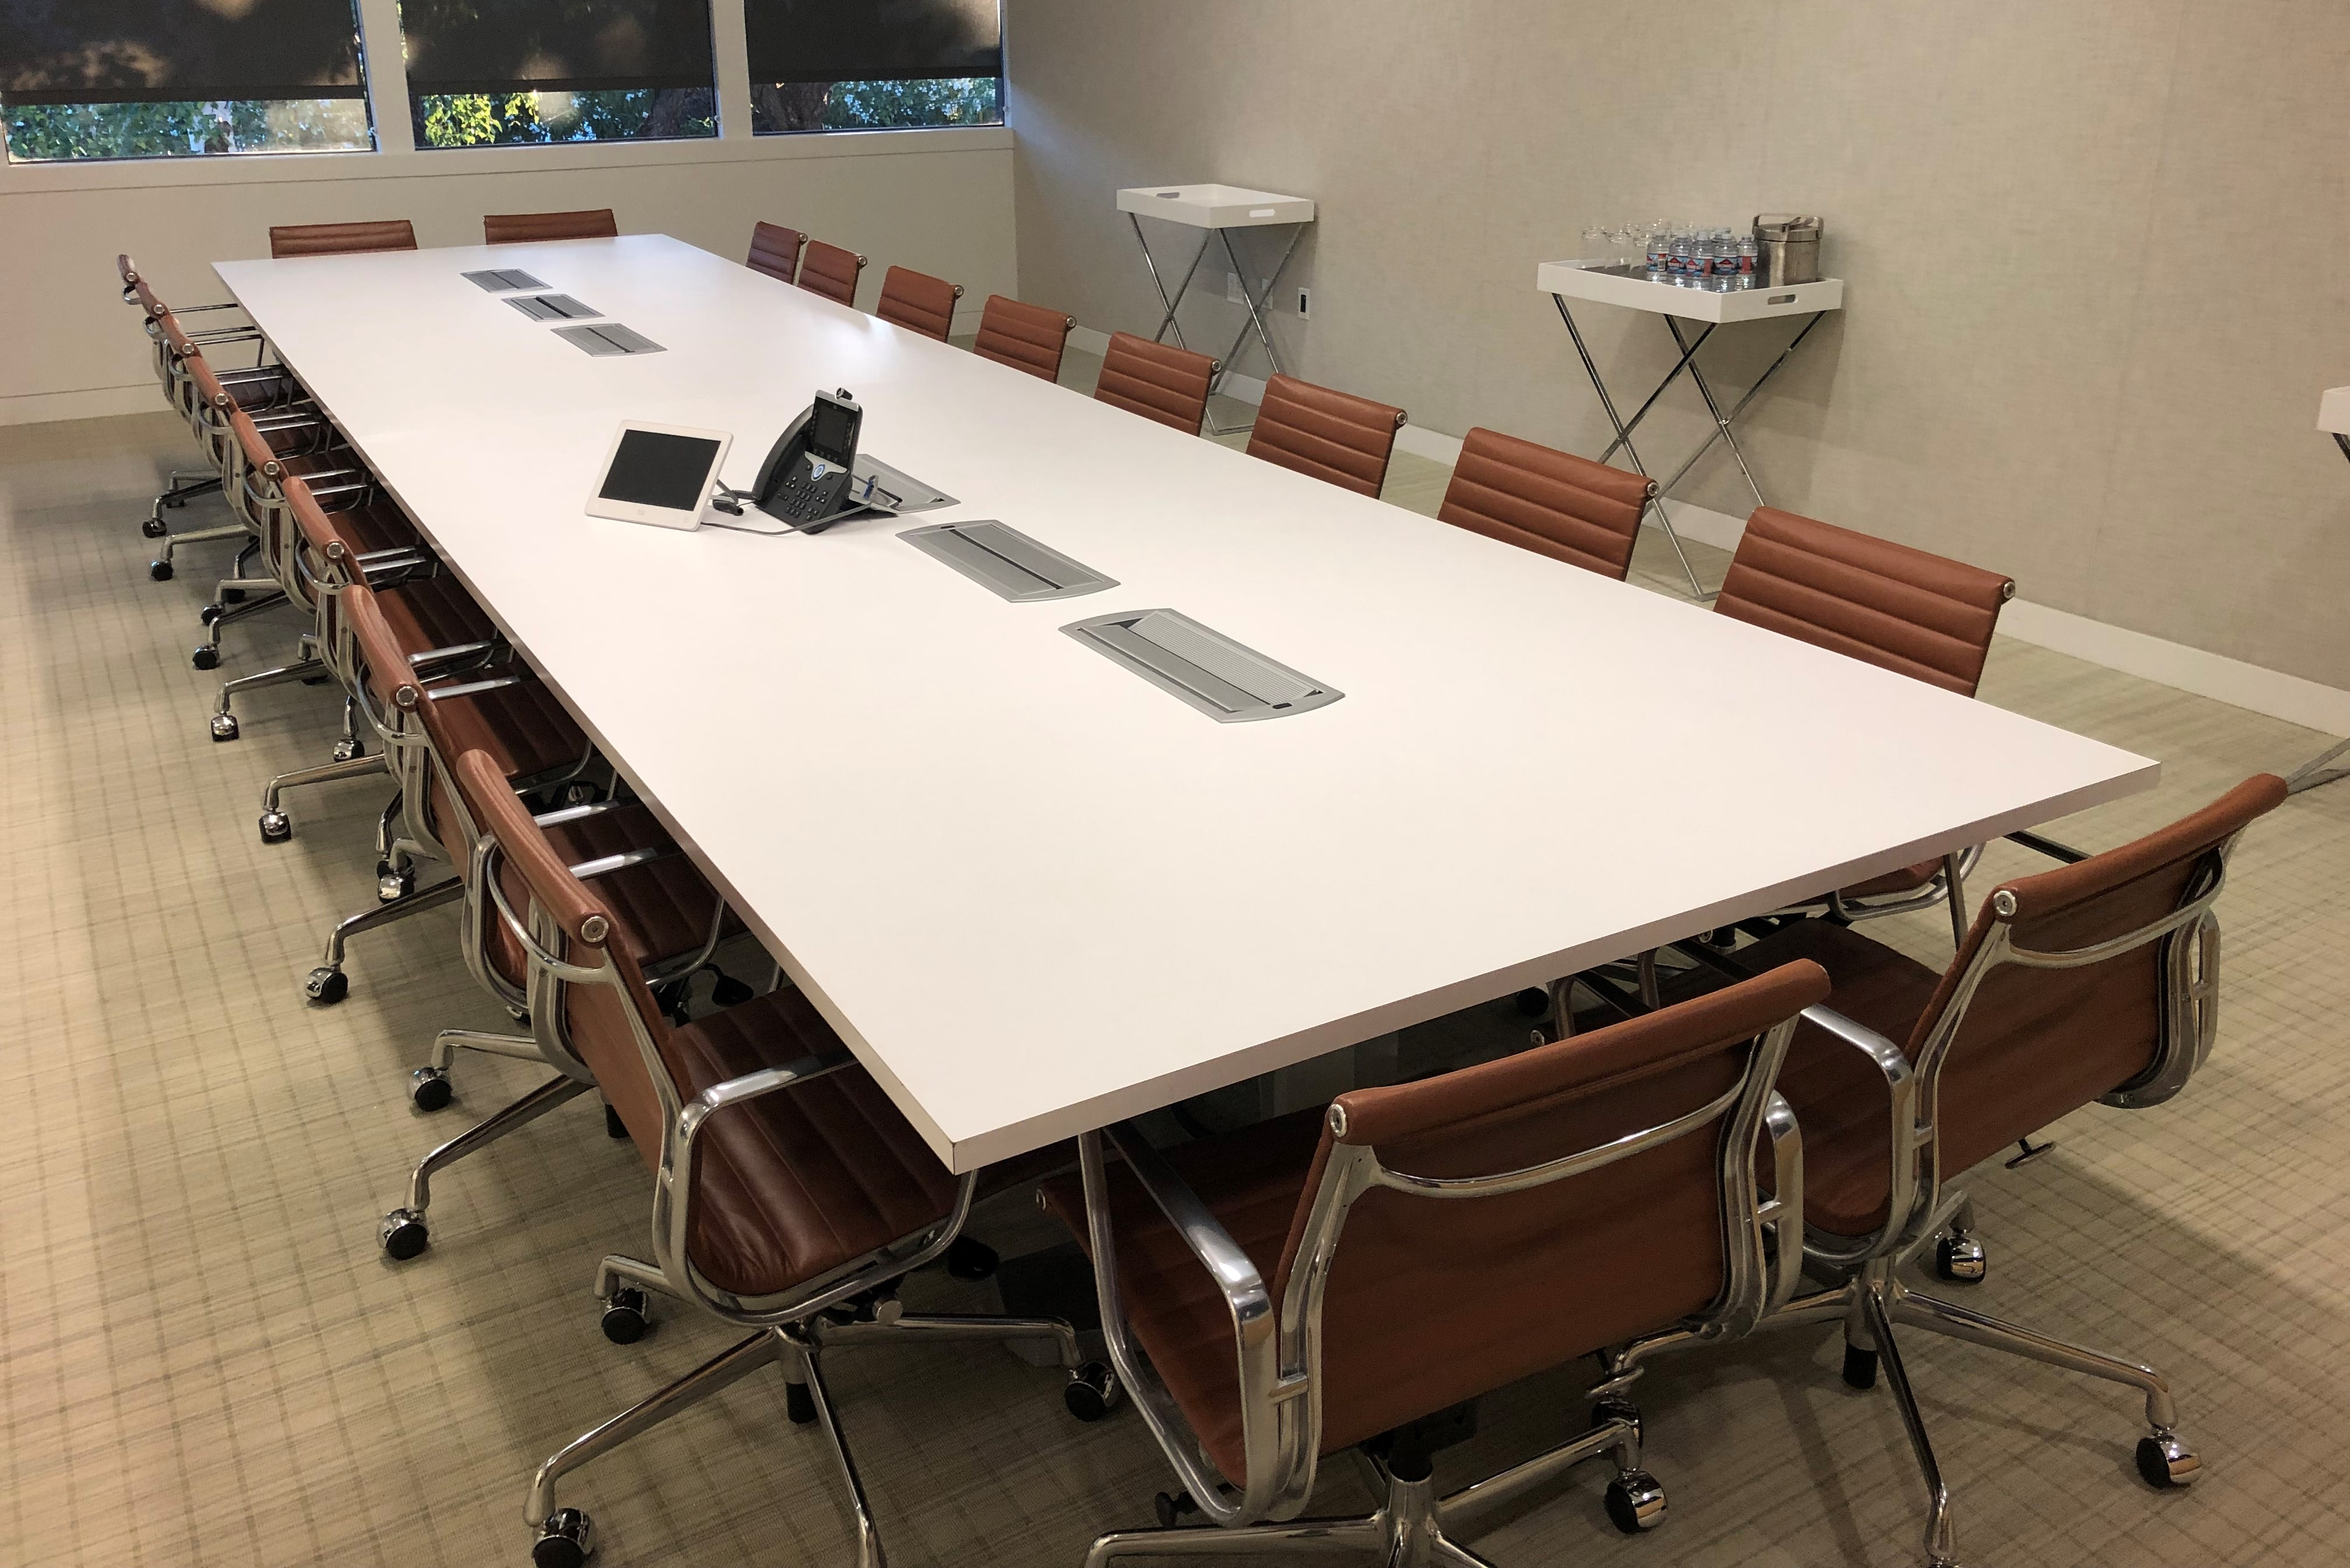conference_table: (211, 232, 2159, 1177)
